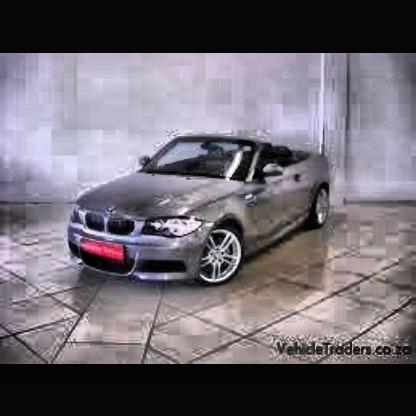BMW 1 Series Convertible 2012: (68, 135, 334, 287)
